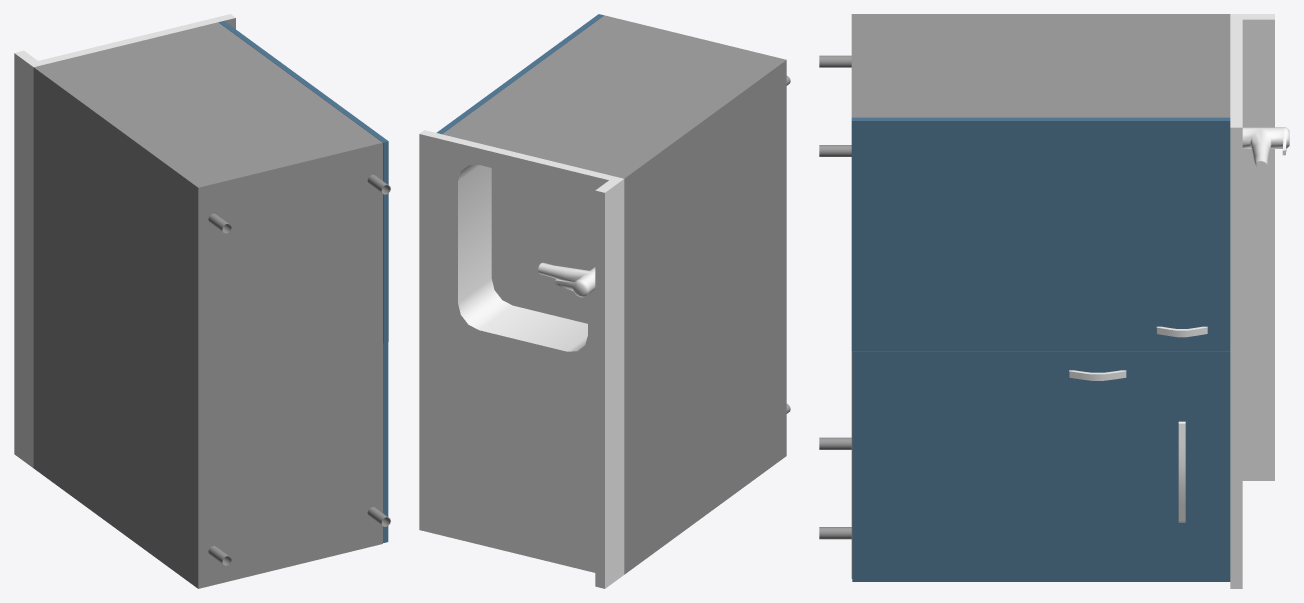
The picture shows the model from 3 angles, left to right: view 1: azimuth 30°, elevation 25°; view 2: azimuth 150°, elevation 25°; view 3: azimuth 270°, elevation 25°; orthographic projection. The views are drawn at different scales.
Visible parts, largest first — view 1: Cube; view 2: Cube; view 3: Cube.
Boxes of the visible parts, x1,y1,x2,y2 form: Cube: (14,14,390,588); Cube: (419,14,790,588); Cube: (819,14,1289,588).
Bounding box in the file's own units: 63.85 × 121 × 112.
